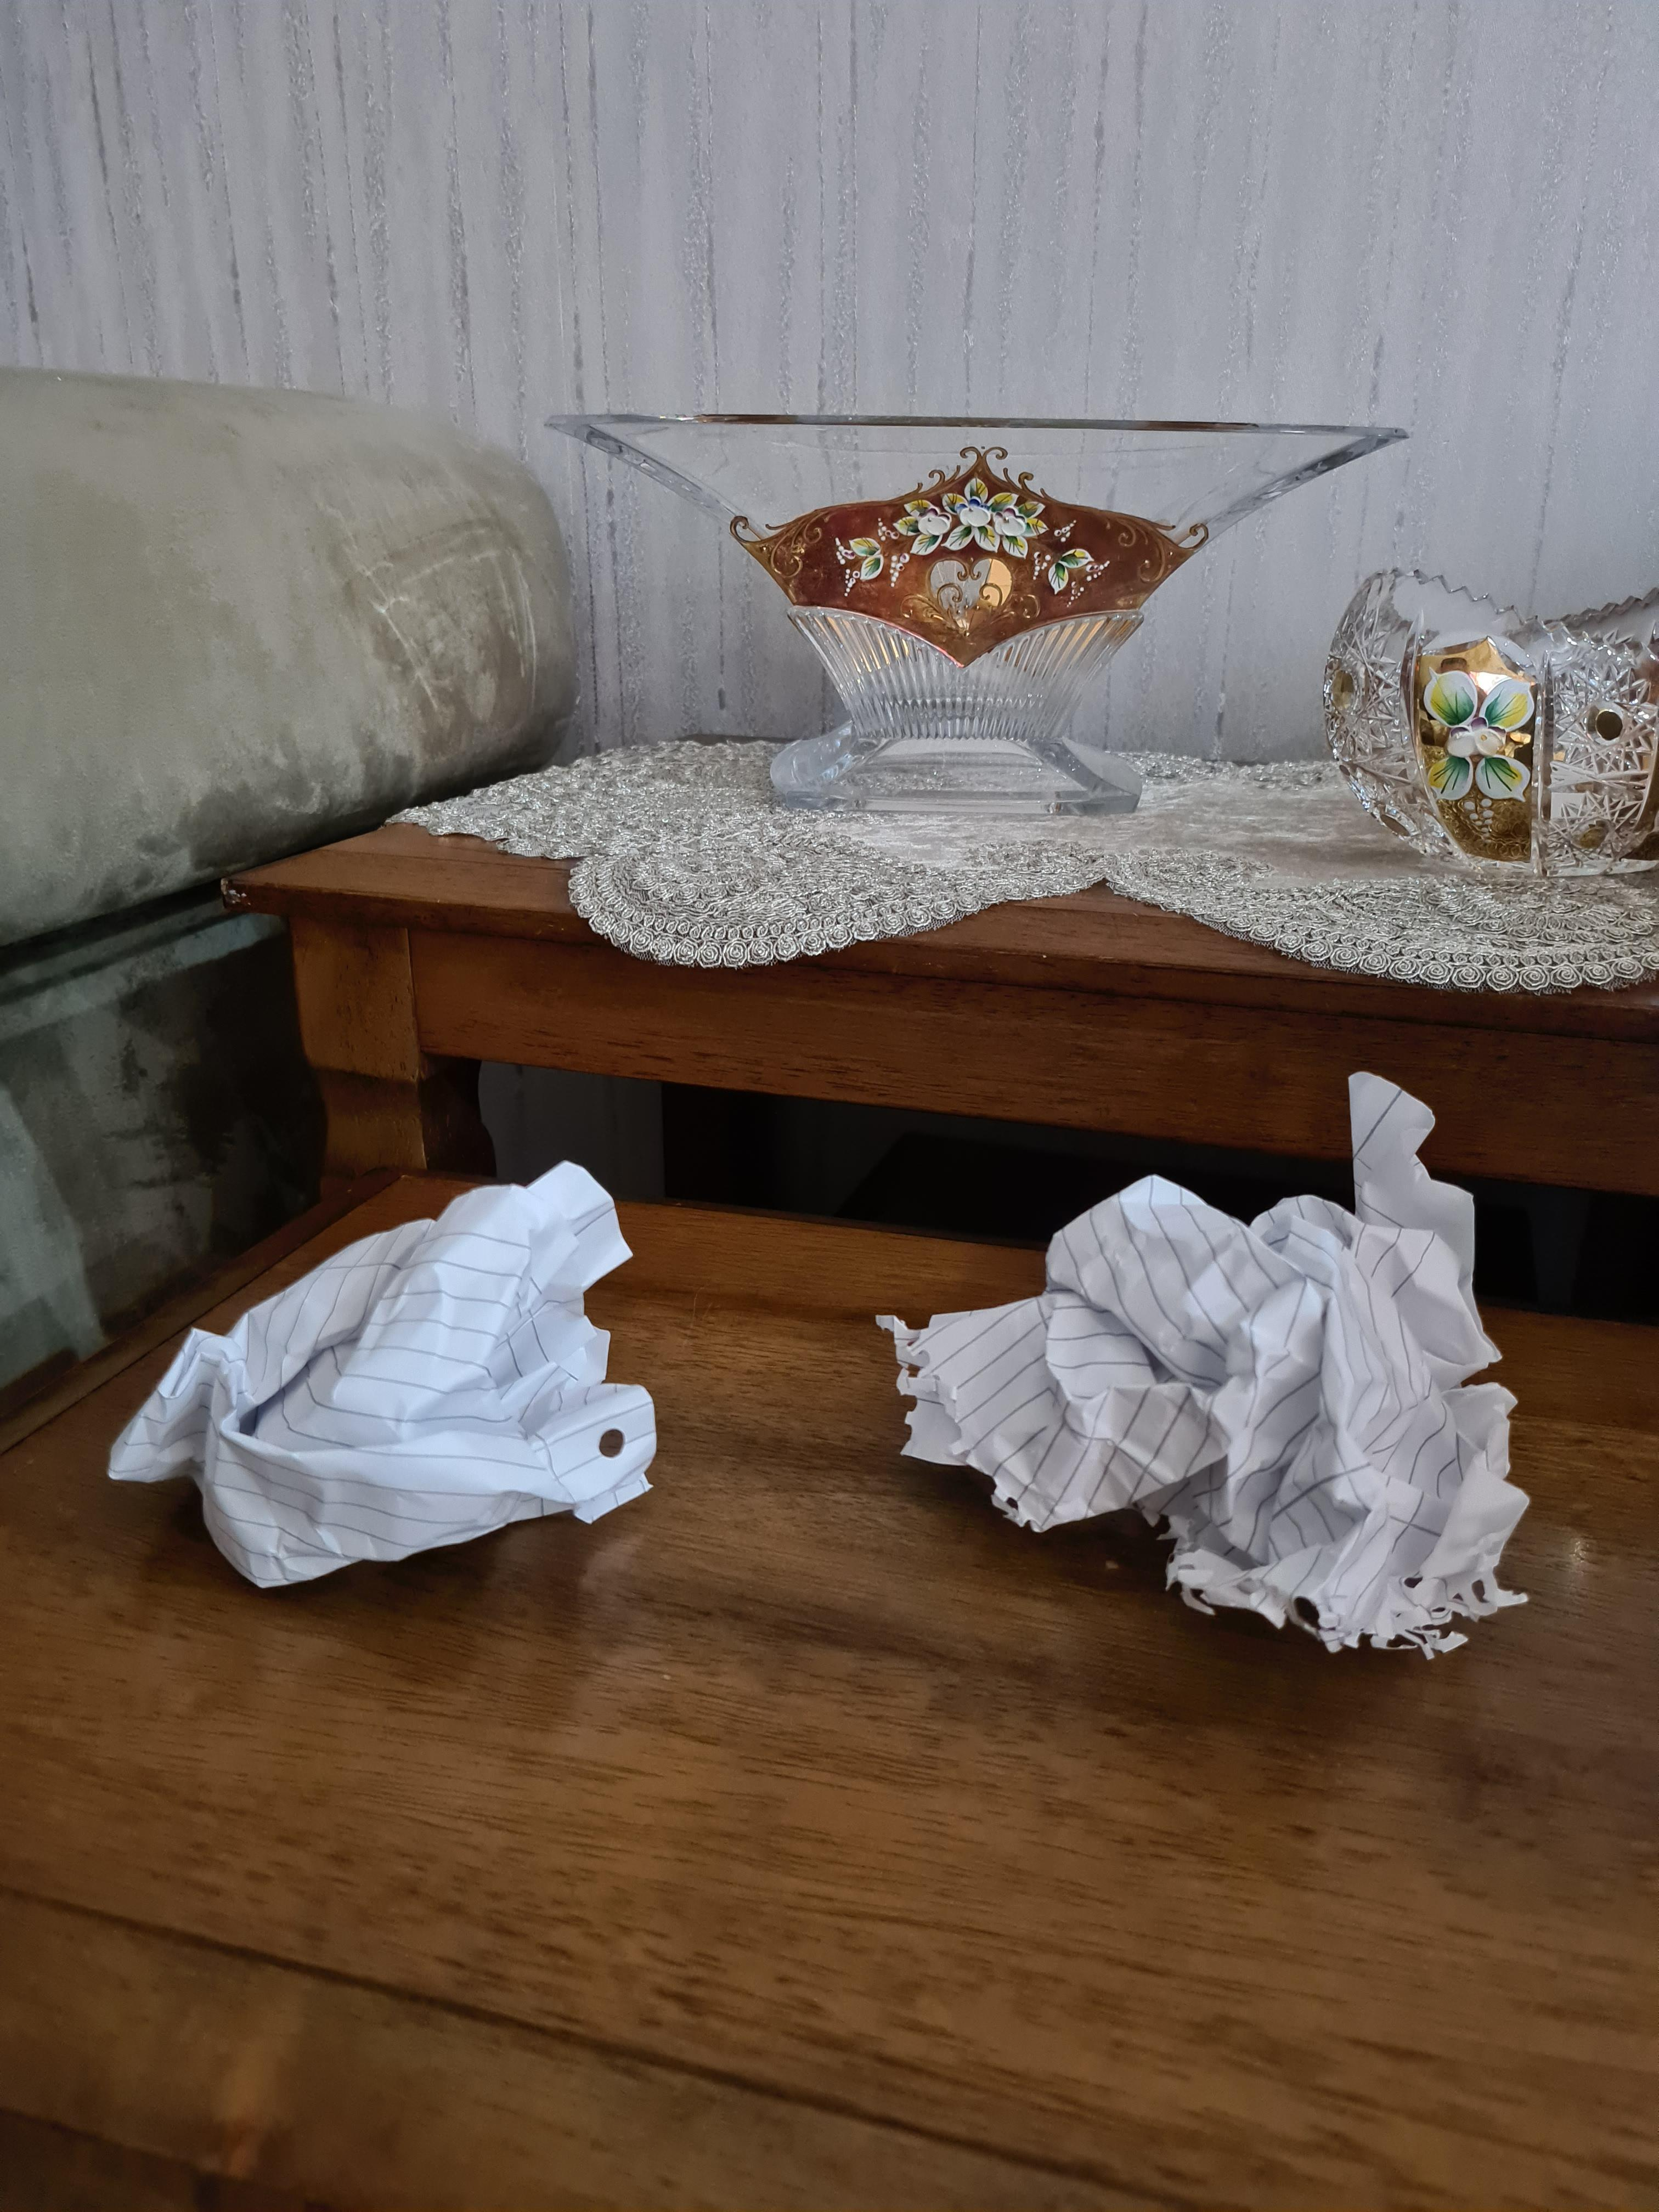Paper: (901, 1071, 1555, 1647), (116, 1142, 650, 1582)
